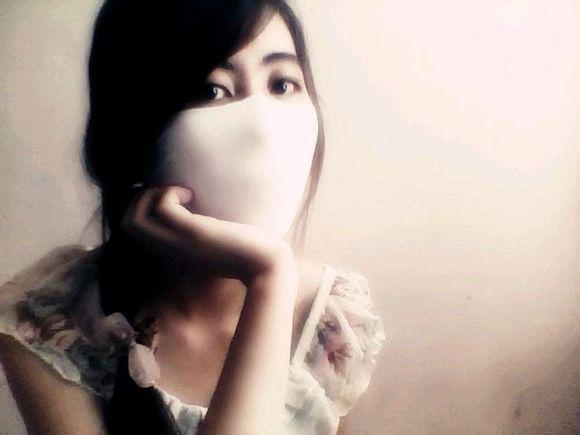OK: (148, 51, 327, 230)
